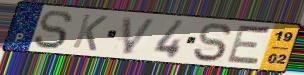4: (151, 18, 184, 60)
E: (223, 22, 274, 68)
K: (70, 12, 110, 53)
S: (190, 22, 234, 64), (31, 9, 75, 51)
V: (121, 15, 159, 56)
